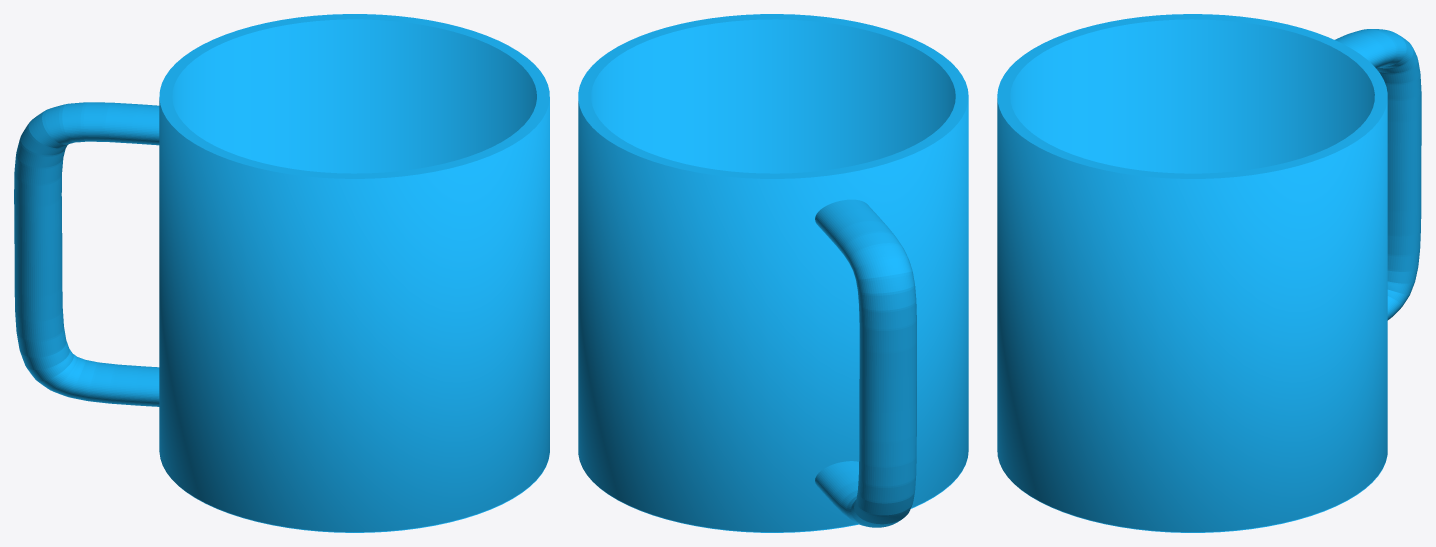
File: Mug.fbx
3 renders of one model, left to right at view 1: azimuth 30°, elevation 25°; view 2: azimuth 150°, elevation 25°; view 3: azimuth 270°, elevation 25°, orthographic.
Visible parts, largest first — view 1: Mug, Cylinder.001; view 2: Mug, Cylinder.001; view 3: Mug, Cylinder.001.
Part boxes in pixels (box(x1,y1,x2,y2)): Mug: box(159, 14, 549, 532); Cylinder.001: box(14, 102, 159, 406); Mug: box(578, 14, 968, 532); Cylinder.001: box(815, 199, 916, 527); Mug: box(997, 14, 1387, 532); Cylinder.001: box(1335, 29, 1421, 320).
Size of the model in its own units: 805 by 668 by 726.
